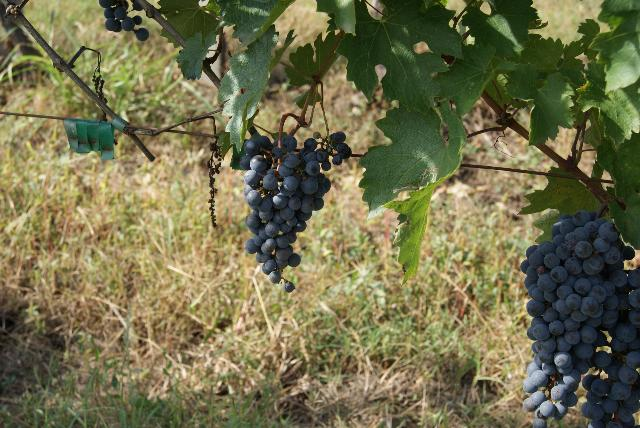grapes: (520, 210, 634, 428), (240, 132, 330, 292)
